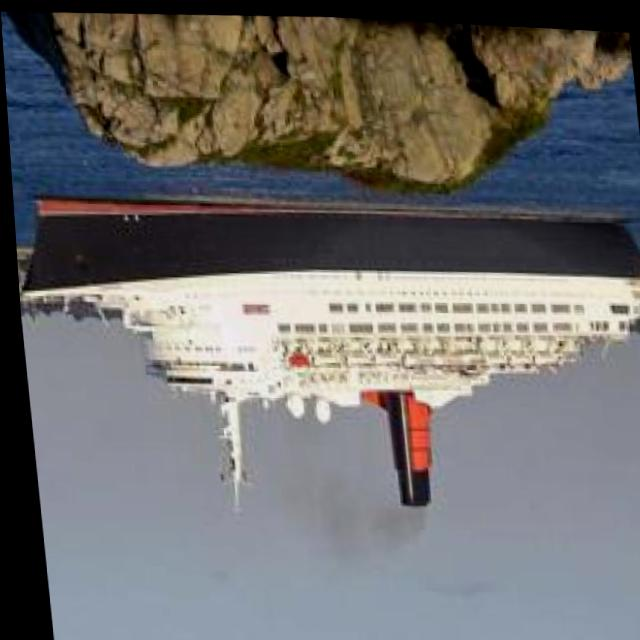ship2: (16, 194, 640, 508)
